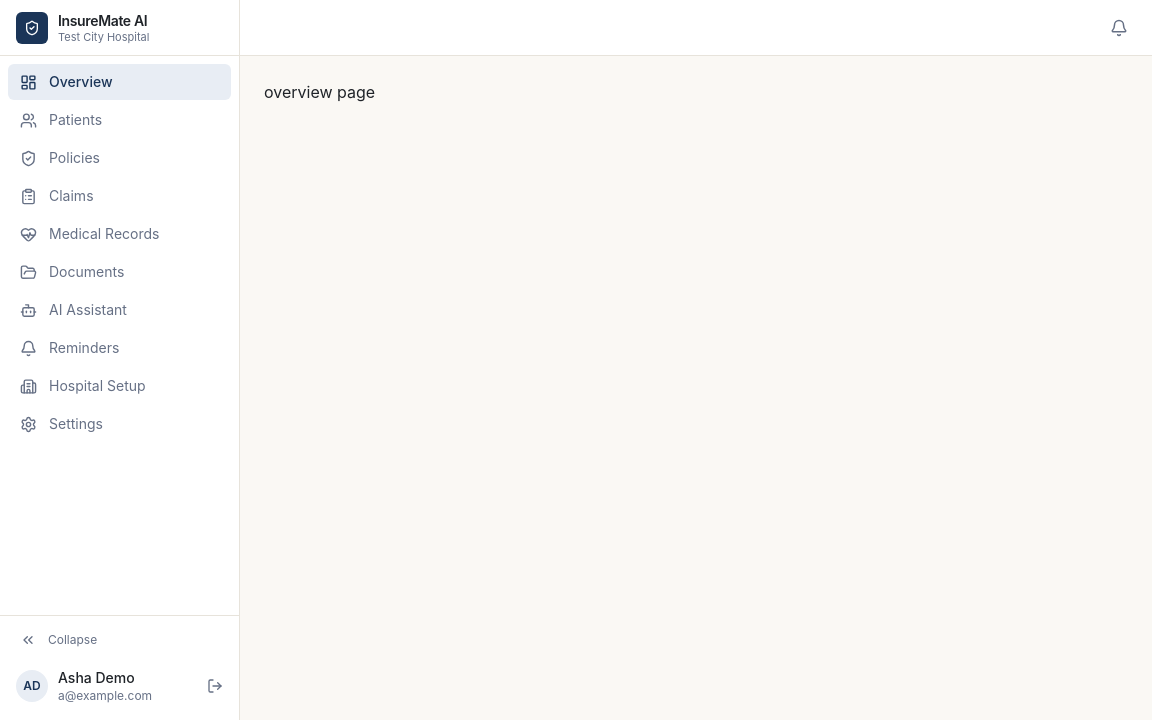
Test: navigation › navigates between sections from the sidebar
This screenshot has width=1152, height=720.
Expected: the text "overview page" is shown, [264,82,375,102]
Click the link "Policies" at {"x": 60, "y": 158}, box [20,149,100,166]
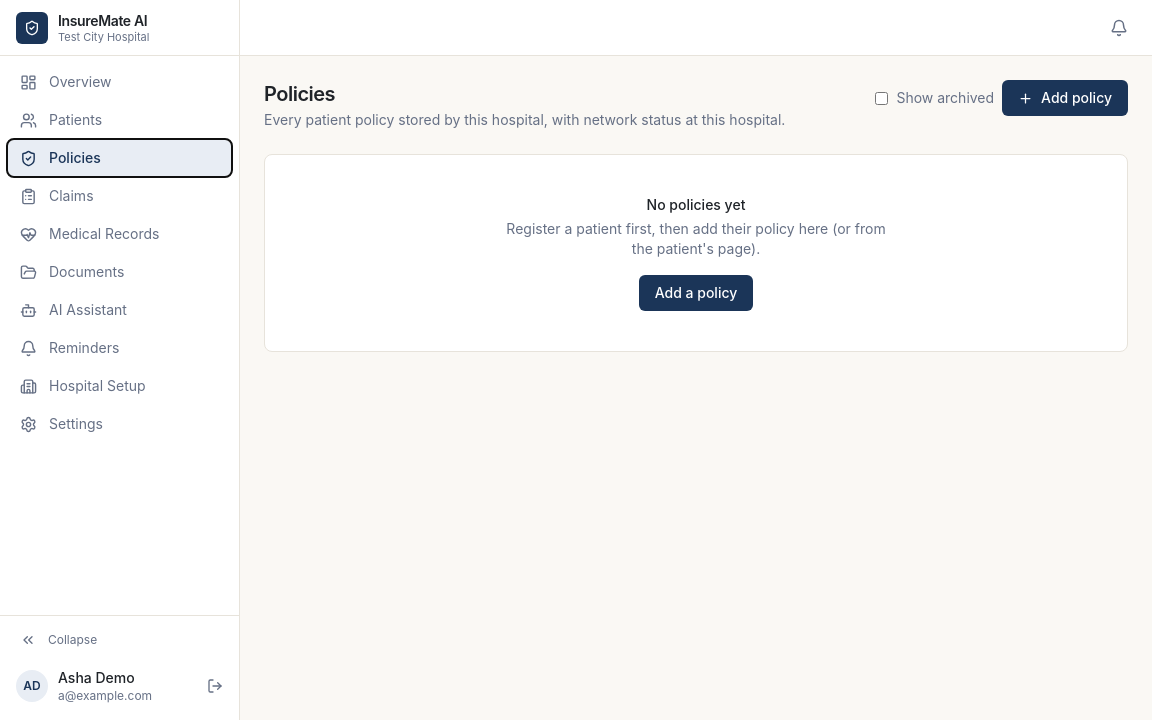
Result: the heading "Policies" is shown at [264,82,335,106]
